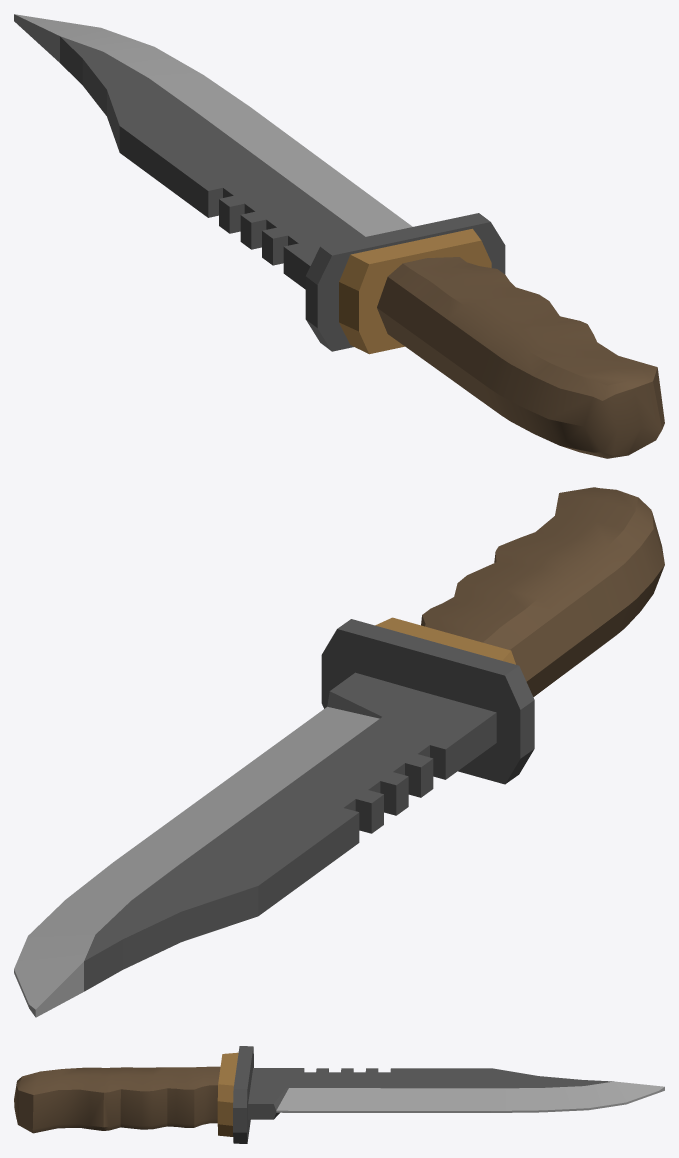
The model's file is knife1-food.fbx.
3 views of the same model, one above another, from view 1: azimuth 30°, elevation 25°; view 2: azimuth 150°, elevation 25°; view 3: azimuth 270°, elevation 25° (orthographic). The views are drawn at different scales.
Parts seen in each view (by area): view 1: knife1-food; view 2: knife1-food; view 3: knife1-food.
Boxes of the visible parts, x1,y1,x2,y2 form: knife1-food: (14,14,664,458); knife1-food: (14,487,664,1017); knife1-food: (14,1046,664,1143).
Size of the model in its own units: 0.0619 by 0.0313 by 0.3359.
